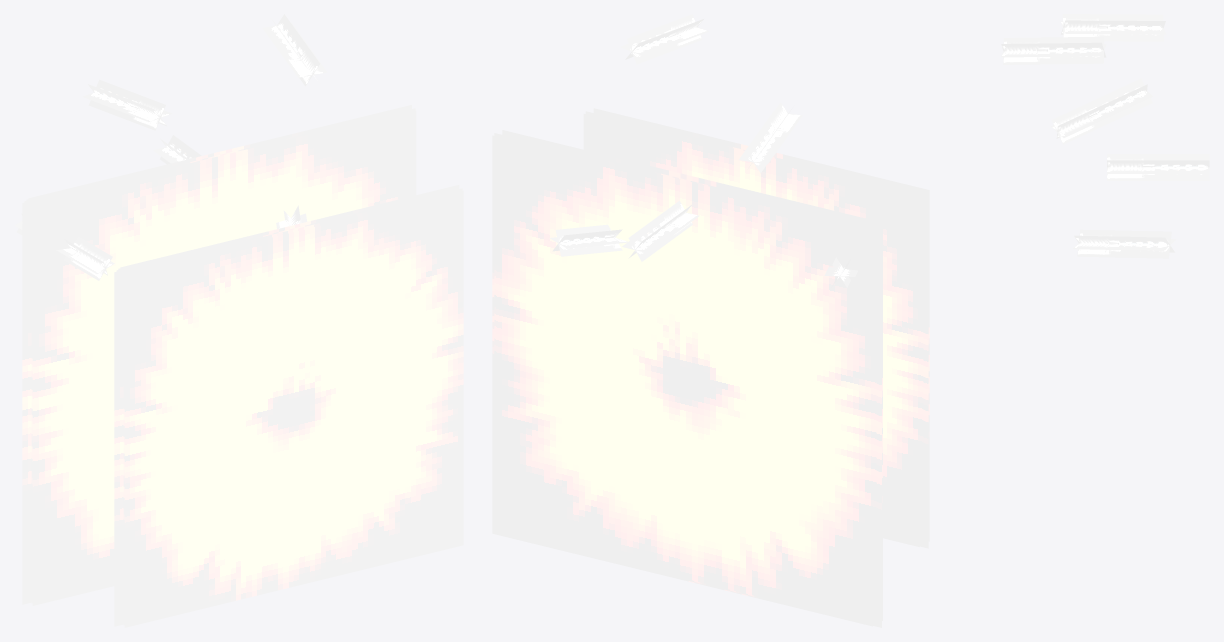
The model's file is sfx_ct0019_skill1.glb.
3 renders of one model, left to right at view 1: azimuth 30°, elevation 25°; view 2: azimuth 150°, elevation 25°; view 3: azimuth 270°, elevation 25°, orthographic.
Visible parts, largest first — view 1: sfx_ct0019_skill1_obj20, sfx_ct0019_skill1_obj27, sfx_ct0019_skill1, sfx_ct0019_skill1_obj17, sfx_ct0019_skill1_obj16, sfx_ct0019_skill1_obj11, sfx_ct0019_skill1_obj10, sfx_ct0019_skill1_obj23, sfx_ct0019_skill1_obj22; view 2: sfx_ct0019_skill1_obj5, sfx_ct0019_skill1_obj4, sfx_ct0019_skill1, sfx_ct0019_skill1_obj14, sfx_ct0019_skill1_obj21, sfx_ct0019_skill1_obj17, sfx_ct0019_skill1_obj15, sfx_ct0019_skill1_obj29, sfx_ct0019_skill1_obj11, sfx_ct0019_skill1_obj23, sfx_ct0019_skill1_obj16, sfx_ct0019_skill1_obj28 (+1 smaller); view 3: sfx_ct0019_skill1.
Part boxes in pixels (x1,y1,x2,y2): sfx_ct0019_skill1_obj20: (124,190,463,627); sfx_ct0019_skill1_obj27: (32,111,416,605); sfx_ct0019_skill1: (15,14,327,280); sfx_ct0019_skill1_obj17: (22,109,405,604); sfx_ct0019_skill1_obj16: (114,189,453,626); sfx_ct0019_skill1_obj11: (31,108,415,603); sfx_ct0019_skill1_obj10: (123,188,462,625); sfx_ct0019_skill1_obj23: (28,105,411,201); sfx_ct0019_skill1_obj22: (120,185,459,270); sfx_ct0019_skill1_obj5: (496,134,876,625); sfx_ct0019_skill1_obj4: (587,112,923,545); sfx_ct0019_skill1: (550,14,857,287); sfx_ct0019_skill1_obj14: (593,108,929,541); sfx_ct0019_skill1_obj21: (523,135,882,620); sfx_ct0019_skill1_obj17: (501,229,881,627); sfx_ct0019_skill1_obj15: (502,130,882,521); sfx_ct0019_skill1_obj29: (498,228,878,626); sfx_ct0019_skill1_obj11: (492,135,872,626); sfx_ct0019_skill1_obj23: (494,133,874,531); sfx_ct0019_skill1_obj16: (883,196,928,548); sfx_ct0019_skill1_obj28: (883,195,925,547); sfx_ct0019_skill1: (1001,14,1209,258).
Bounding box in the file's own units: 1.74 × 2.24 × 0.9788.
2 materials, 2 textured.
